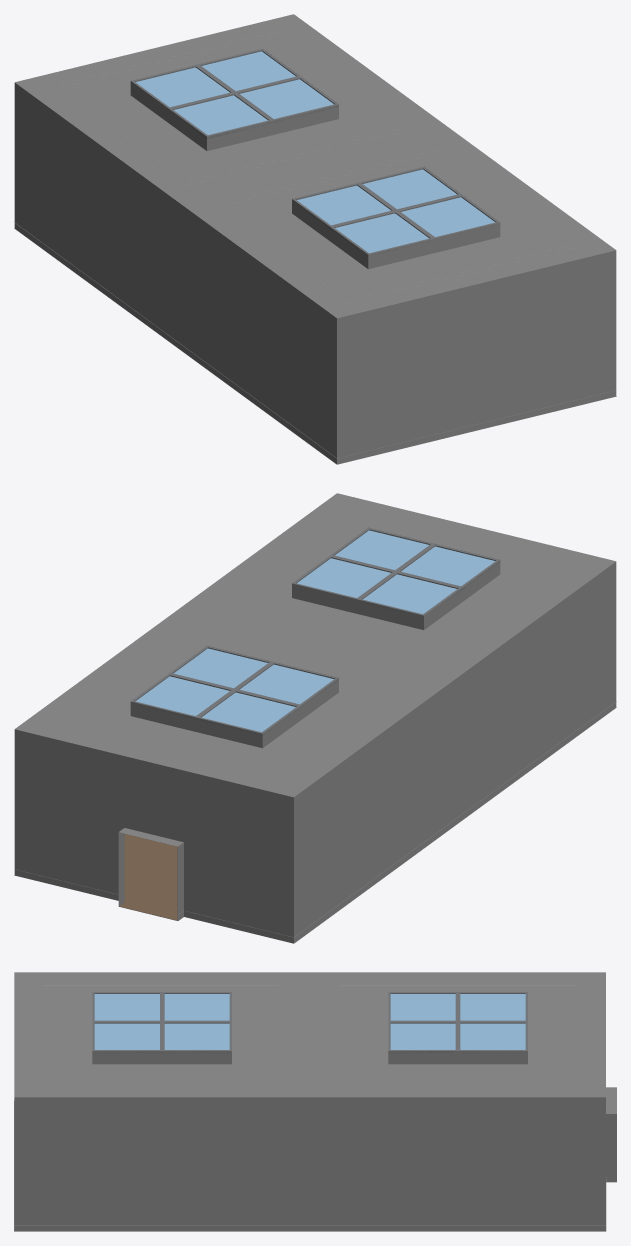
Rendered from MuseumRoom.fbx.
3 renders of one model, top to bottom at view 1: azimuth 30°, elevation 25°; view 2: azimuth 150°, elevation 25°; view 3: azimuth 270°, elevation 25°, orthographic. The views are drawn at different scales.
Parts seen in each view (by area): view 1: Room, Glass, Windows, Baseboards; view 2: Room, Glass, Windows, Baseboards; view 3: Room, Glass, Windows, Baseboards.
Part boxes in pixels (box(x1,y1,x2,y2)): Room: box(14, 14, 616, 464); Glass: box(135, 51, 495, 253); Windows: box(130, 49, 499, 256); Baseboards: box(14, 222, 616, 464); Room: box(14, 493, 616, 943); Glass: box(135, 530, 495, 732); Windows: box(131, 528, 500, 735); Baseboards: box(14, 701, 616, 943); Room: box(14, 972, 616, 1231); Glass: box(94, 994, 525, 1049); Windows: box(92, 992, 527, 1053); Baseboards: box(14, 1101, 606, 1231).
Bounding box in the file's own units: 802 × 440 × 1631.
